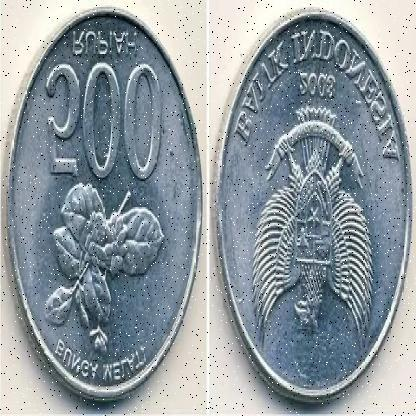coin_500_e2003: (0, 6, 205, 401), (219, 7, 413, 405)
